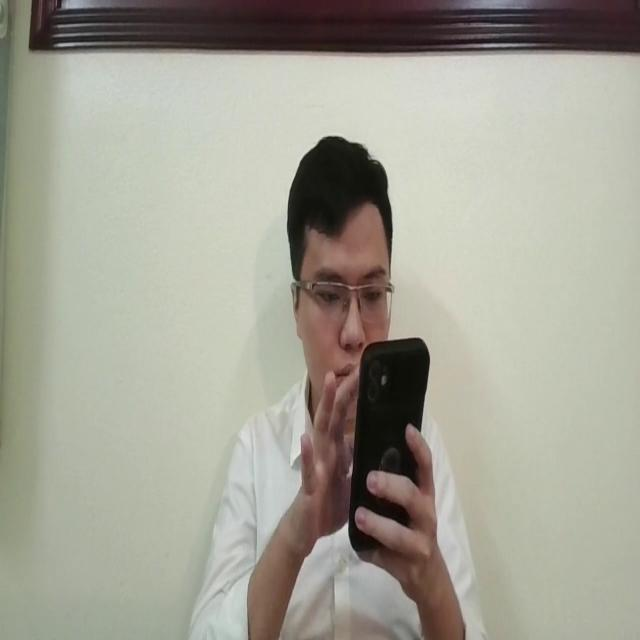phone: (349, 336, 430, 553)
student: (187, 130, 484, 640)
